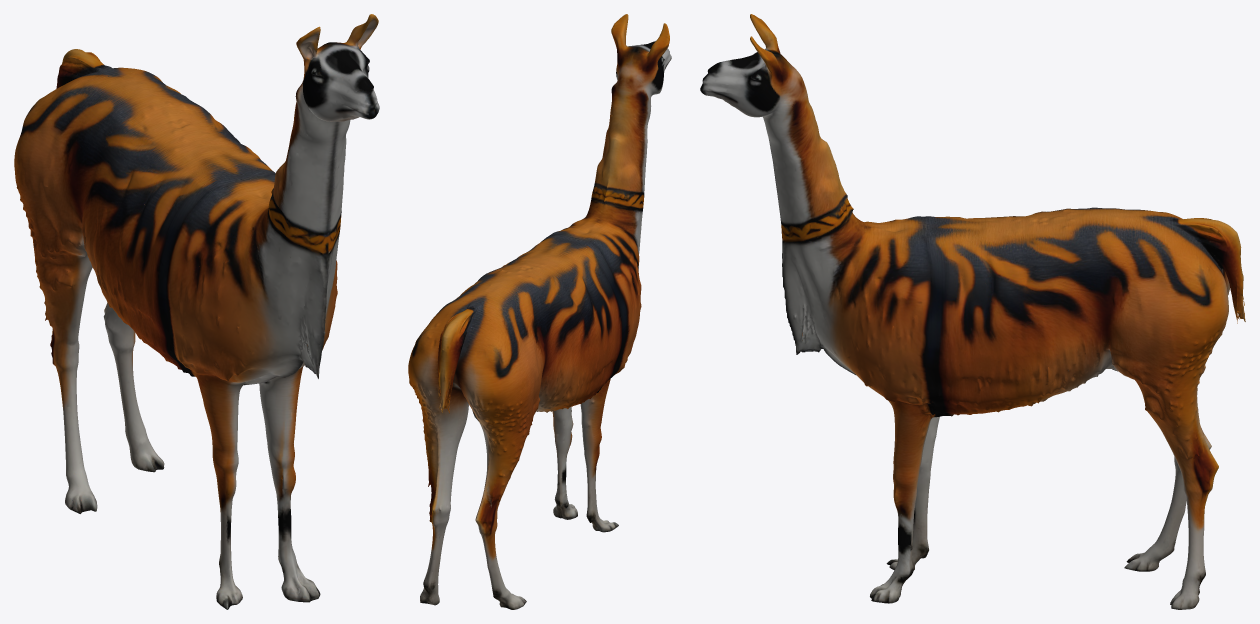
The model's file is lama_orange.glb.
The picture shows the model from 3 angles, left to right: view 1: azimuth 30°, elevation 25°; view 2: azimuth 150°, elevation 25°; view 3: azimuth 270°, elevation 25°; orthographic projection. The views are drawn at different scales.
Visible parts, largest first — view 1: tripo_node_01a14985-7741-4e7a-95f7-c2a2f2e0eae5; view 2: tripo_node_01a14985-7741-4e7a-95f7-c2a2f2e0eae5; view 3: tripo_node_01a14985-7741-4e7a-95f7-c2a2f2e0eae5.
Boxes of the visible parts, x1,y1,x2,y2 form: tripo_node_01a14985-7741-4e7a-95f7-c2a2f2e0eae5: (14,14,379,609); tripo_node_01a14985-7741-4e7a-95f7-c2a2f2e0eae5: (408,14,671,609); tripo_node_01a14985-7741-4e7a-95f7-c2a2f2e0eae5: (700,14,1245,609).
Size of the model in its own units: 0.2602 by 1 by 0.8854.
1 material, 1 textured.
